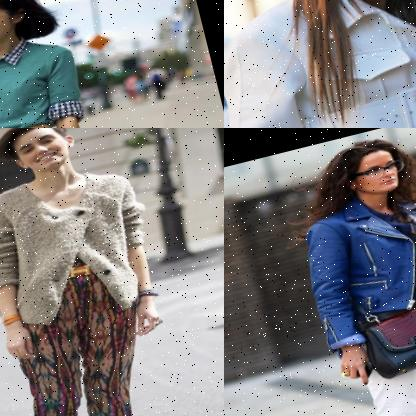jacket: (224, 0, 416, 128), (292, 179, 416, 353)
pants: (0, 255, 162, 416), (350, 314, 416, 416)
polar: (0, 156, 168, 341), (0, 26, 89, 128)
